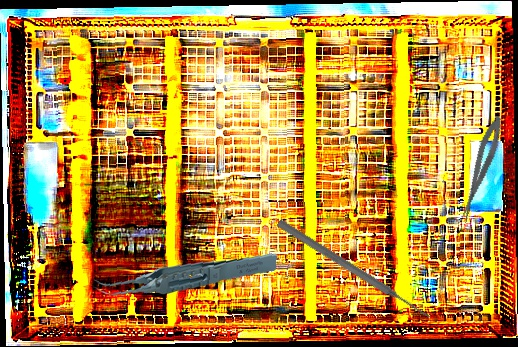Micro Scissor: (453, 113, 508, 225)
Pusher: (275, 217, 433, 323)
Tissue Forceps: (92, 237, 278, 309)
